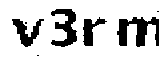3: (48, 7, 78, 51)
m: (112, 14, 160, 49)
r: (81, 16, 107, 51)
v: (11, 17, 44, 50)
